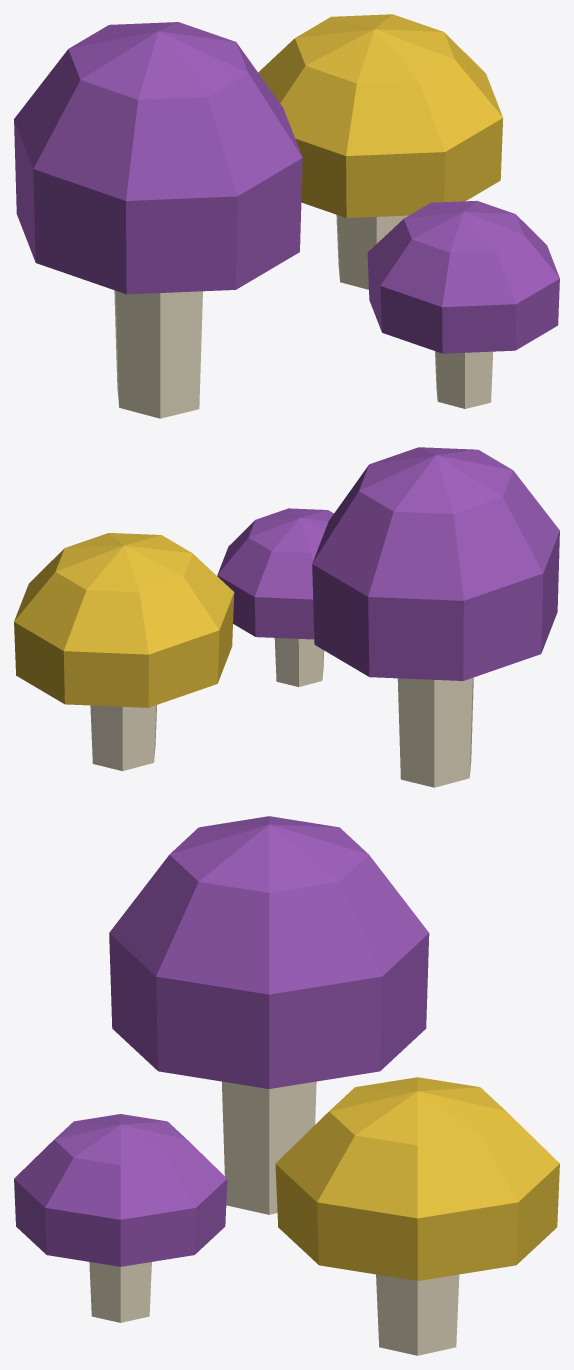
Rendered from env_r6_toadstool_cluster.glb.
3 renders of one model, top to bottom at view 1: azimuth 30°, elevation 25°; view 2: azimuth 150°, elevation 25°; view 3: azimuth 270°, elevation 25°, orthographic. The views are drawn at different scales.
Visible parts, largest first — view 1: env_r6_toadstool_cluster; view 2: env_r6_toadstool_cluster; view 3: env_r6_toadstool_cluster.
Part boxes in pixels (x1,y1,x2,y2): env_r6_toadstool_cluster: [14, 14, 559, 418]; env_r6_toadstool_cluster: [14, 447, 559, 787]; env_r6_toadstool_cluster: [14, 816, 559, 1355].
Size of the model in its own units: 1.8 by 1.2 by 1.6.
1 material, 1 textured.
